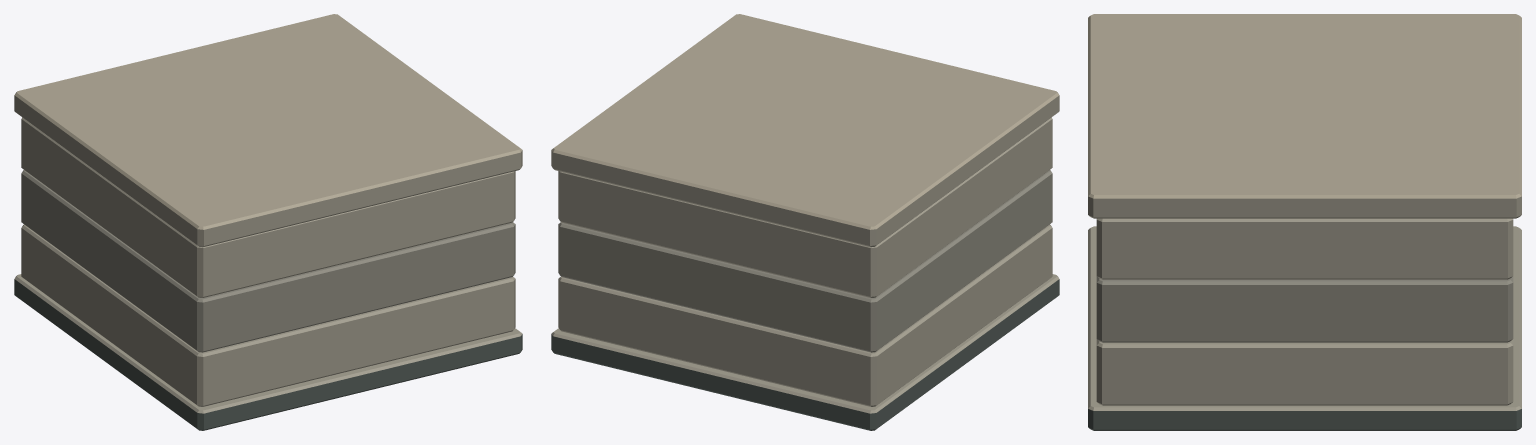
Rendered from platform.glb.
The picture shows the model from 3 angles, left to right: view 1: azimuth 30°, elevation 25°; view 2: azimuth 150°, elevation 25°; view 3: azimuth 270°, elevation 25°; orthographic projection. The views are drawn at different scales.
Visible parts, largest first — view 1: platform__body; view 2: platform__body; view 3: platform__body.
Boxes of the visible parts, x1,y1,x2,y2 form: platform__body: (14,14,522,430); platform__body: (551,14,1059,430); platform__body: (1088,14,1521,430).
Bounding box in the file's own units: 2 × 1.2 × 2.
